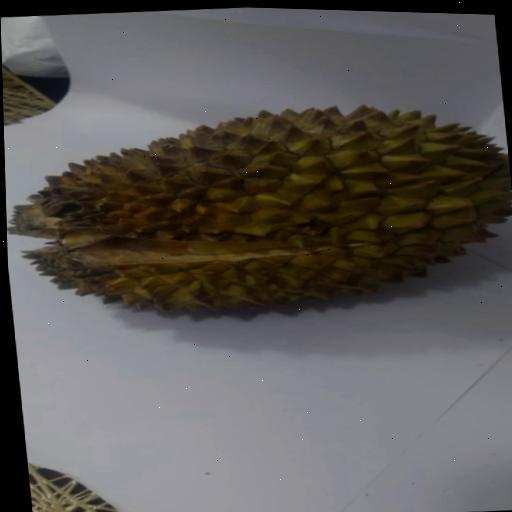rot: (2, 54, 512, 367)
